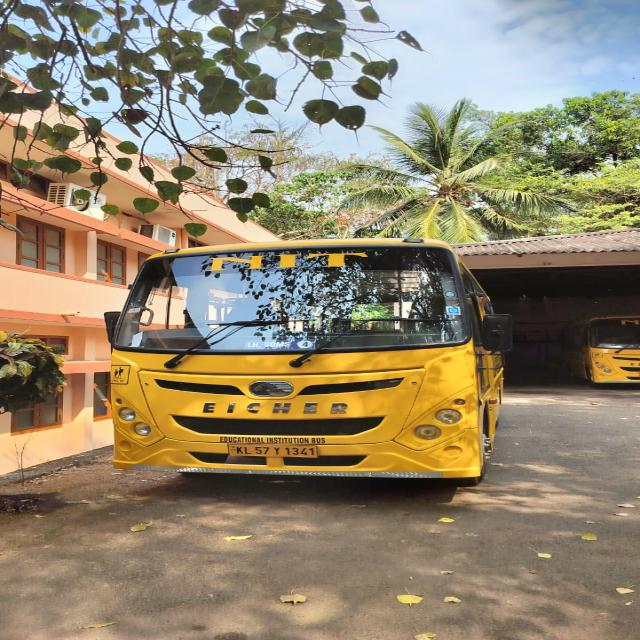bus ahead at: (96, 241, 536, 498)
